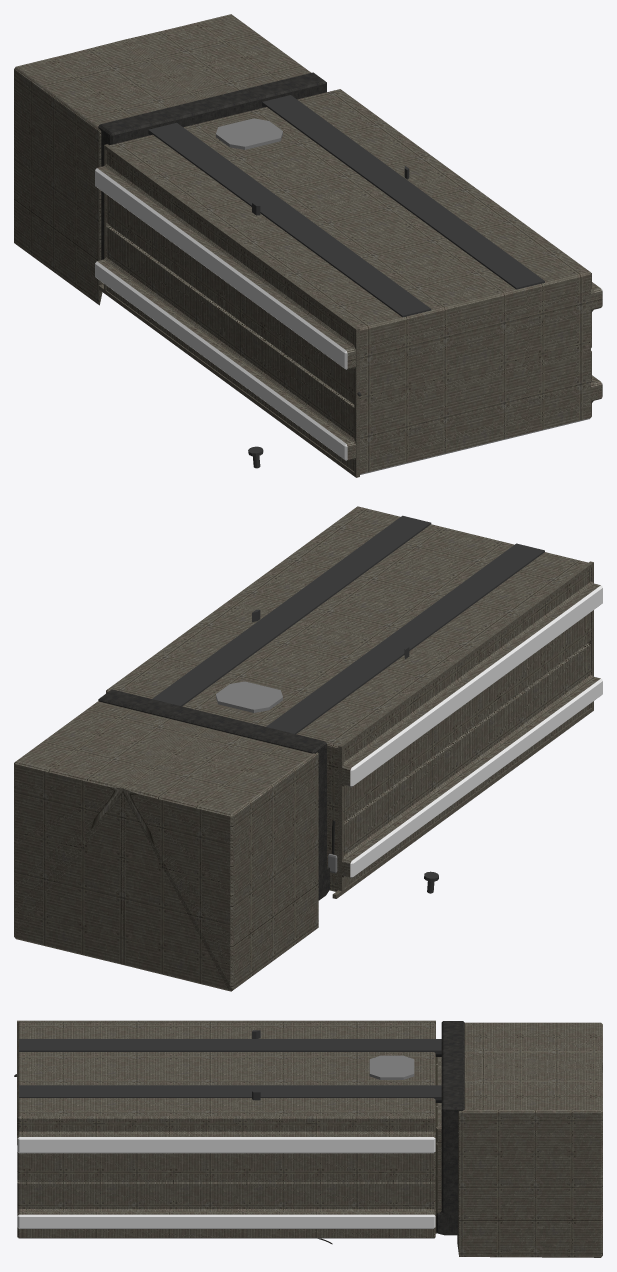
The model's file is Garage.fbx.
3 renders of one model, top to bottom at view 1: azimuth 30°, elevation 25°; view 2: azimuth 150°, elevation 25°; view 3: azimuth 270°, elevation 25°, orthographic. The views are drawn at different scales.
Parts seen in each view (by area): view 1: Cube.001, Cube.004, Cube.005, Cube.006, Cube.020; view 2: Cube.001, Cube.004, Cube.005, Cube.006, Cube.020; view 3: Cube.001, Cube.004, Cube.005, Cube.006, Cube.020.
Boxes of the visible parts, x1,y1,x2,y2 form: Cube.001: (14,14,602,474); Cube.004: (148,95,544,317); Cube.005: (98,72,326,259); Cube.006: (98,144,359,477); Cube.020: (216,118,282,149); Cube.001: (14,506,602,991); Cube.004: (152,515,544,734); Cube.005: (98,689,329,900); Cube.006: (332,561,593,898); Cube.020: (216,681,282,712); Cube.001: (17,1022,602,1257); Cube.004: (19,1039,441,1102); Cube.005: (436,1021,464,1235); Cube.006: (17,1020,435,1144); Cube.020: (369,1055,414,1079).
Size of the model in its own units: 2165 by 2011 by 5140.
